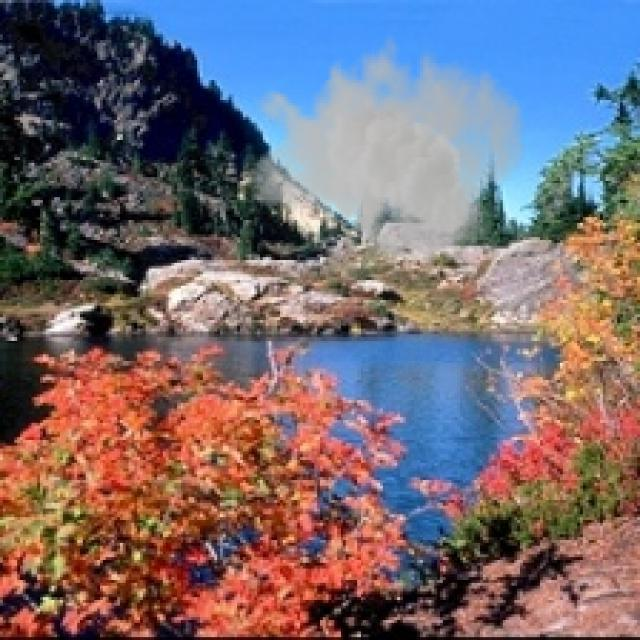Smoke: (245, 22, 526, 268)
